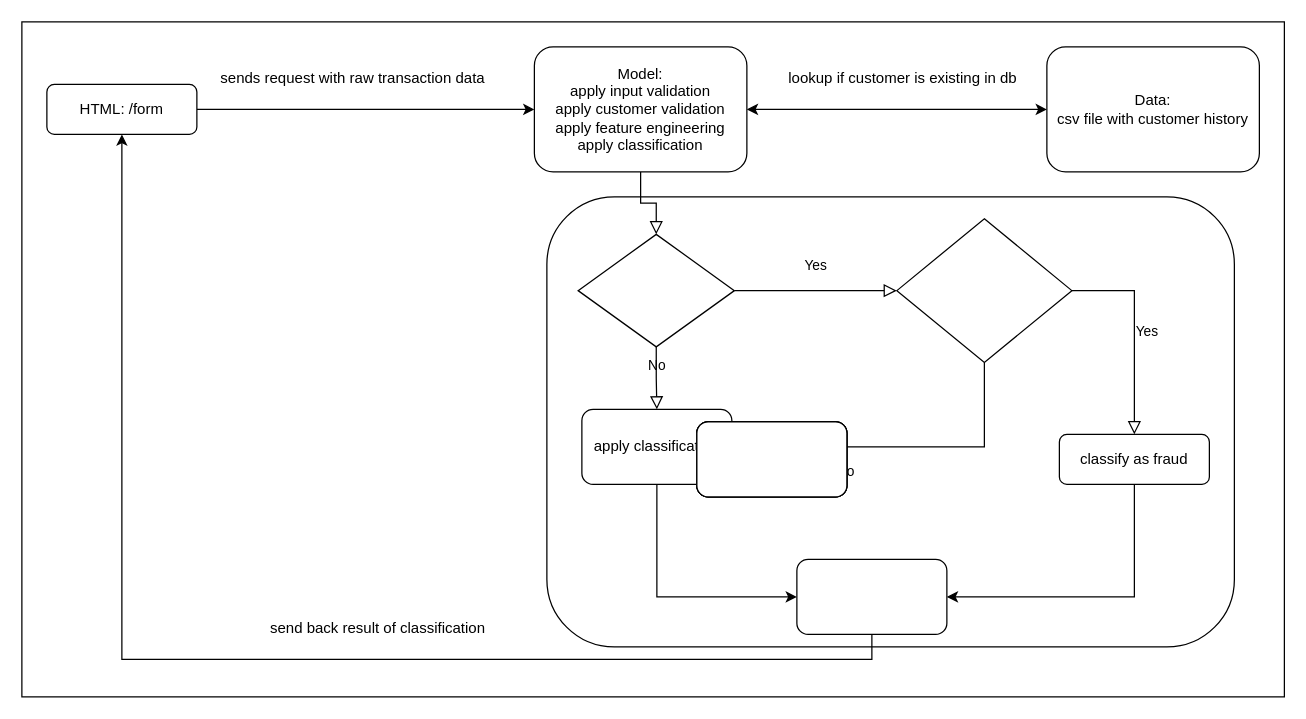
Some shapes in this 1306 by 719 pixel diagram are drawn without their labels. Each missing label, with the centre of its shape:
clasification result: the point at 871,596
Has customer commited fraud before: the point at 984,290
Is device_id in customer history?: the point at 655,290
